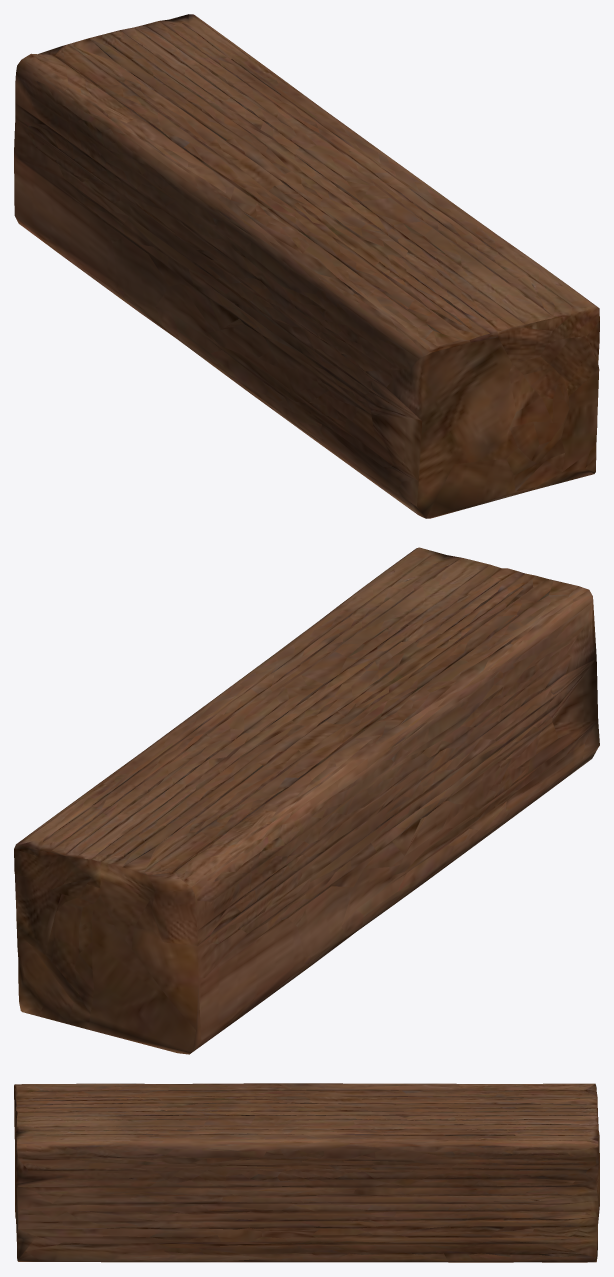
Rendered from 木质横梁.glb.
The picture shows the model from 3 angles, top to bottom: view 1: azimuth 30°, elevation 25°; view 2: azimuth 150°, elevation 25°; view 3: azimuth 270°, elevation 25°; orthographic projection. The views are drawn at different scales.
Visible parts, largest first — view 1: tripo_node_b35920fa-1721-48ee-9fd5-bd56a390f46e; view 2: tripo_node_b35920fa-1721-48ee-9fd5-bd56a390f46e; view 3: tripo_node_b35920fa-1721-48ee-9fd5-bd56a390f46e.
Part boxes in pixels (x1,y1,x2,y2): tripo_node_b35920fa-1721-48ee-9fd5-bd56a390f46e: [14, 14, 599, 518]; tripo_node_b35920fa-1721-48ee-9fd5-bd56a390f46e: [14, 547, 599, 1054]; tripo_node_b35920fa-1721-48ee-9fd5-bd56a390f46e: [14, 1083, 599, 1262].
Bounding box in the file's own units: 0.2649 × 0.2374 × 0.9998.
Materials: 1 (1 with a texture image).
